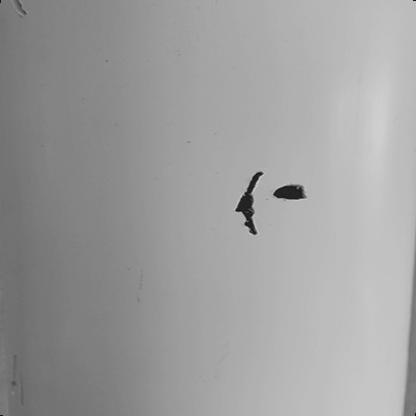kongdong: (235, 170, 263, 235), (272, 182, 309, 203)
sunshang: (10, 1, 32, 19)
